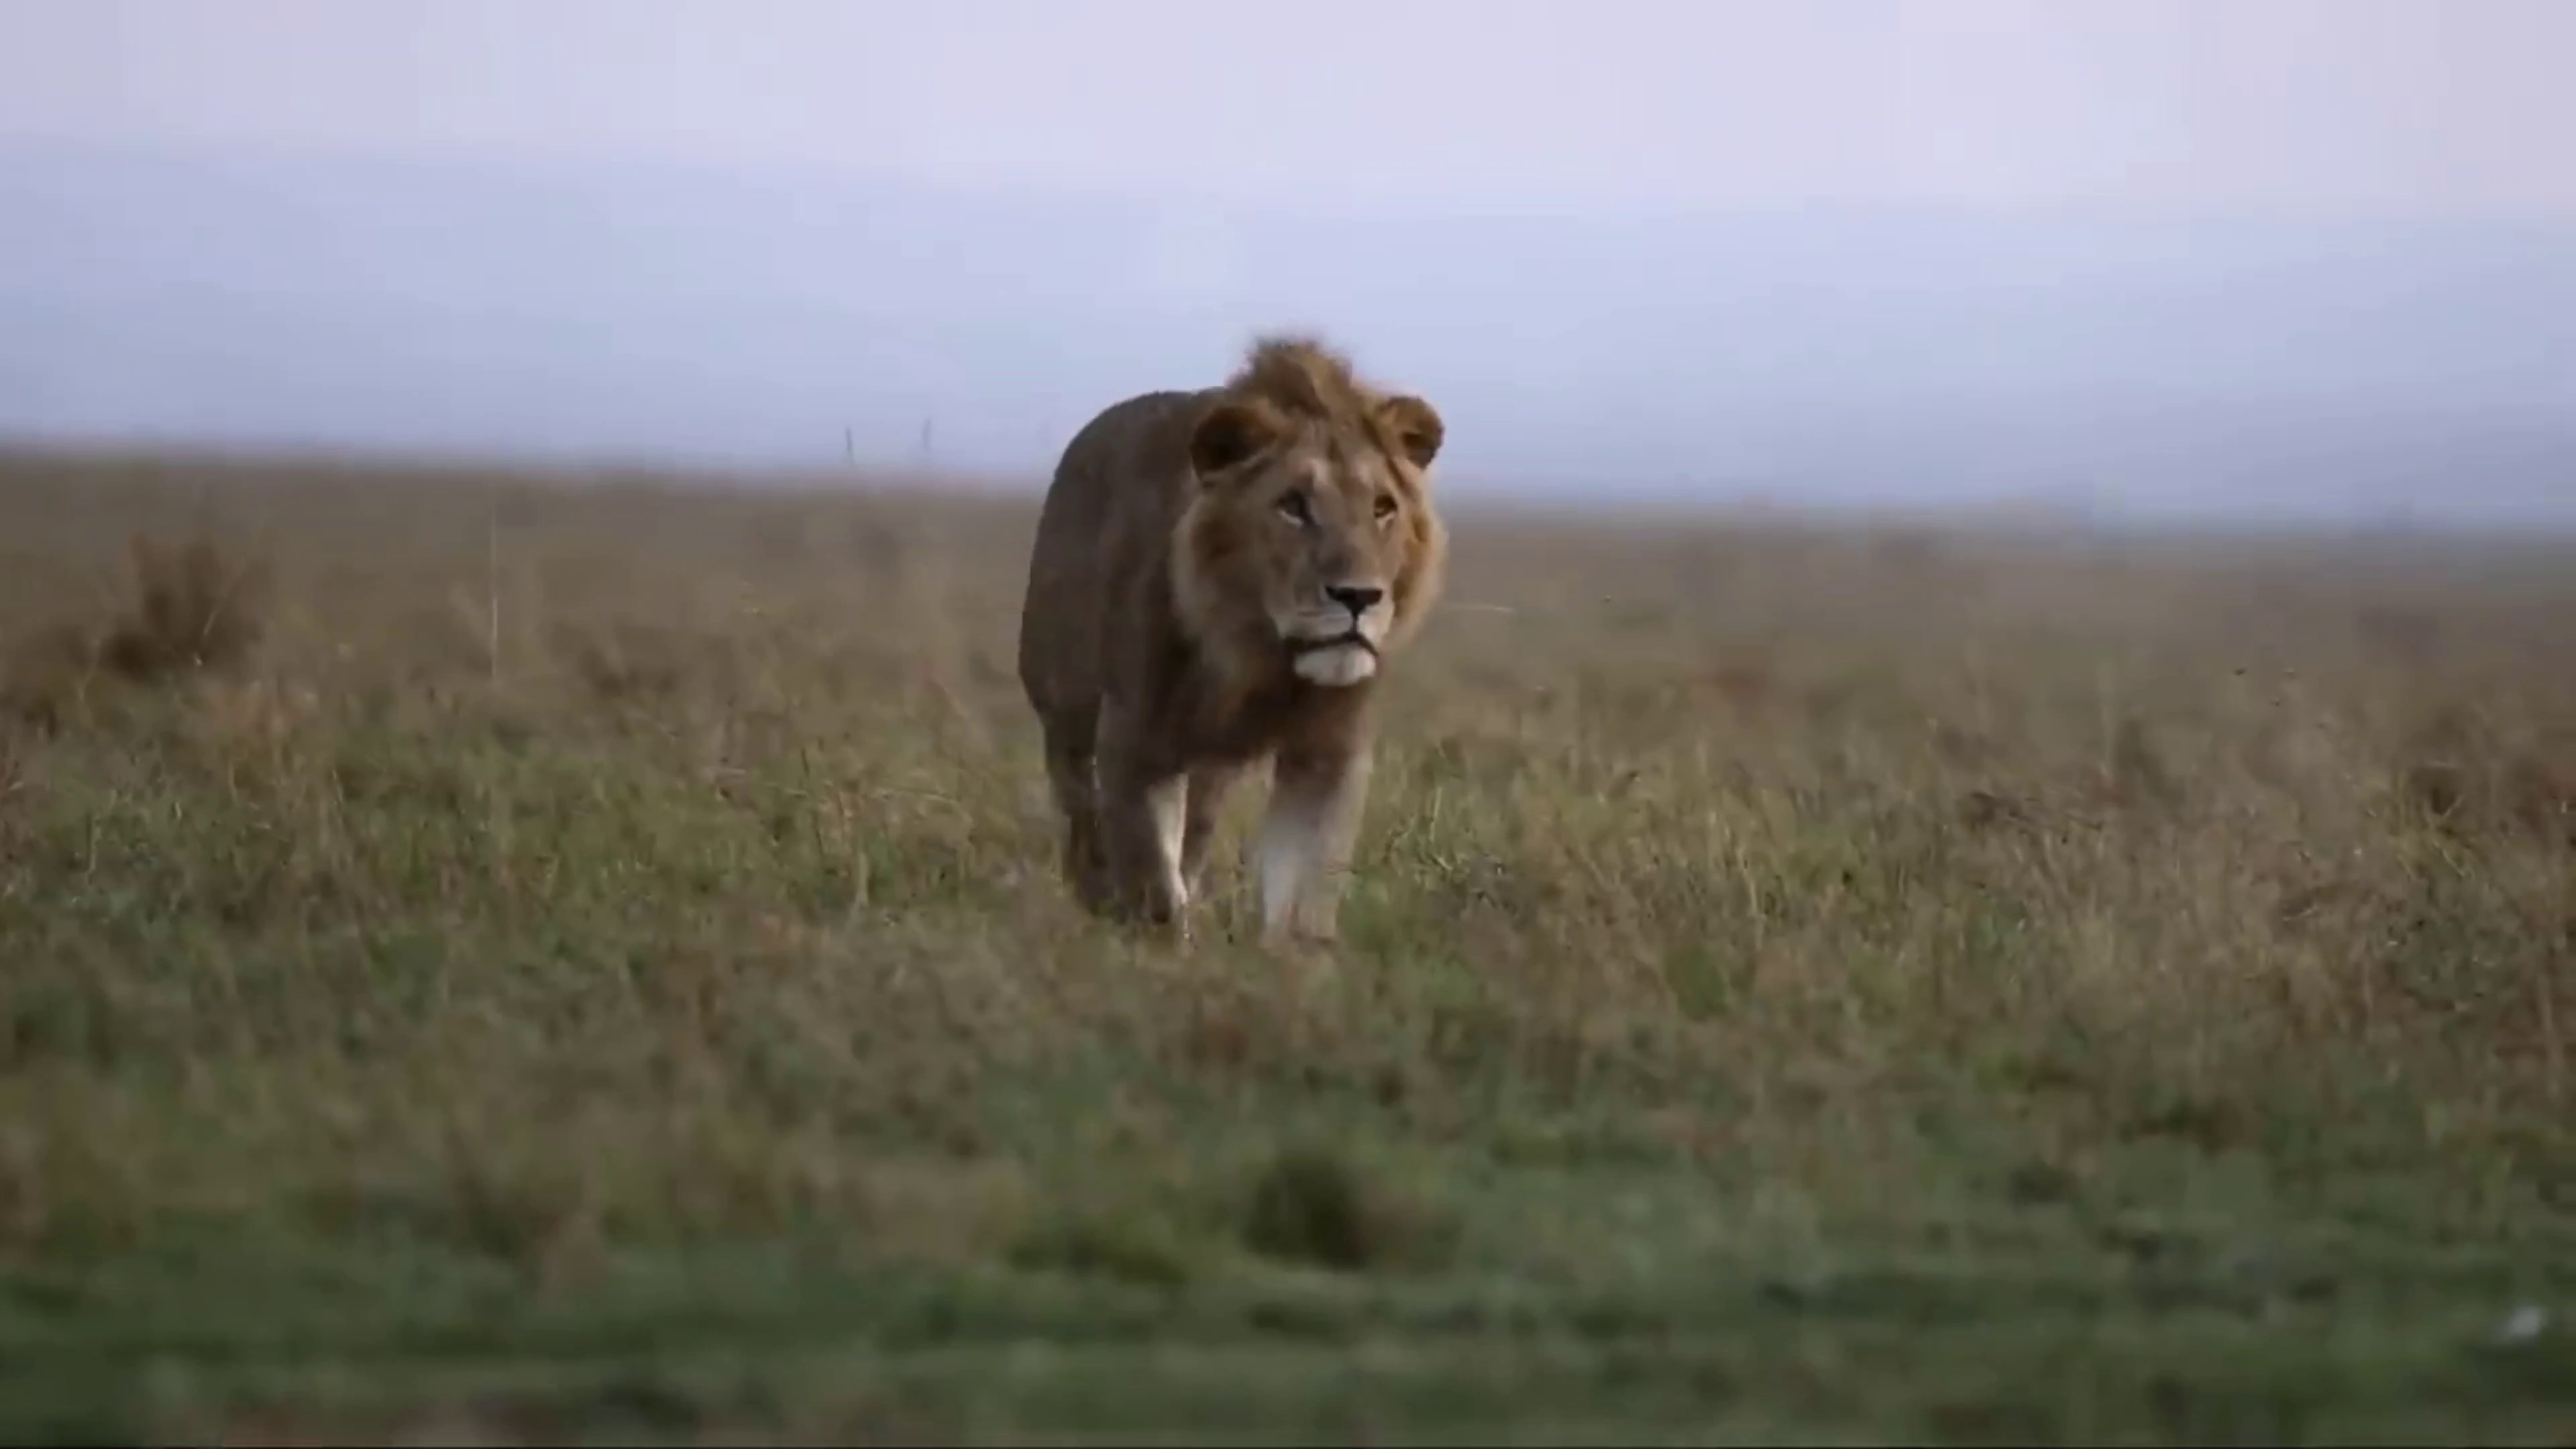Lion: (1017, 338, 1451, 955)
